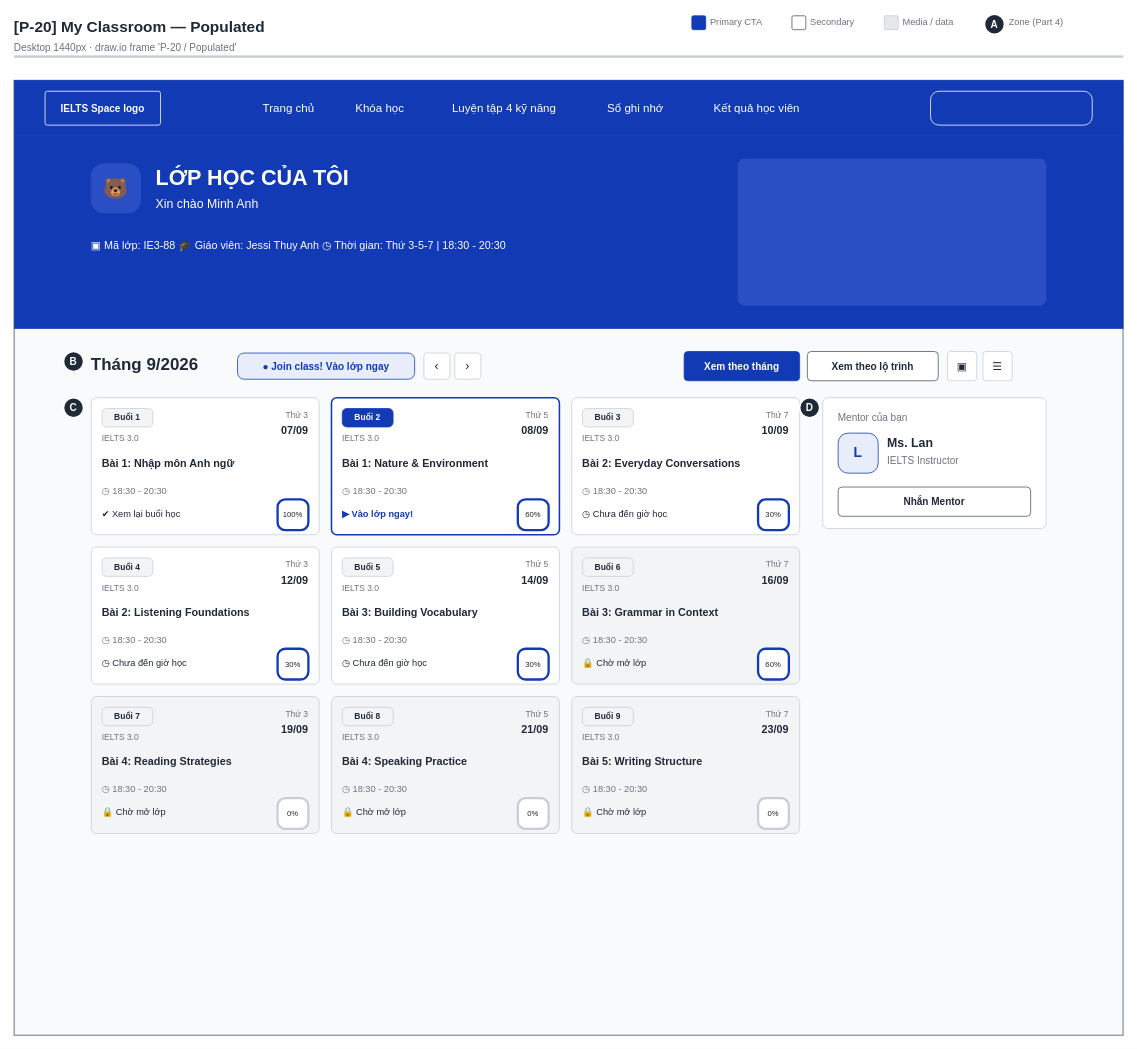
The diagram is 1137 pixels wide and 1049 high, and some of its shapes have lost their labels. Here are the shapes that lost their labels. From the top down, the centre of each, then its label:
At point (1011, 107): "◯ Học viên · 30 Points ▾".
At point (891, 231): "IELTS Cất cánh 3.0 – IELTS 4.0+ ClassProgressPanel (dark)".
